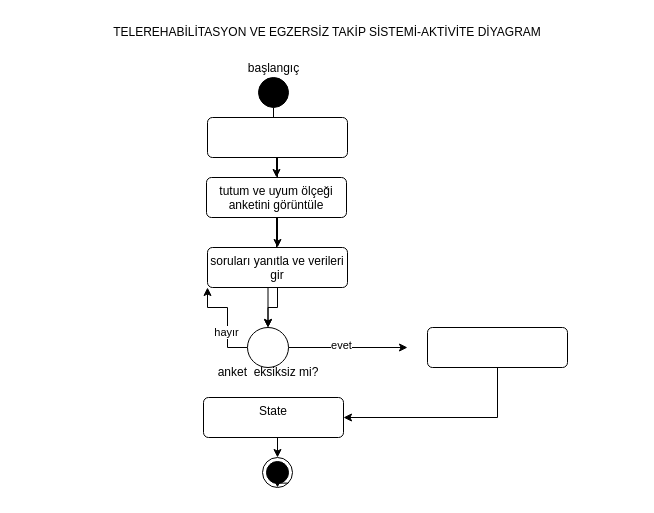
This 654x513 diagram has some shape labels left out. Each missing label, with the centre of its shape:
sisteme giriş yap: [277,137]
State1, State2, ...: [497,347]
